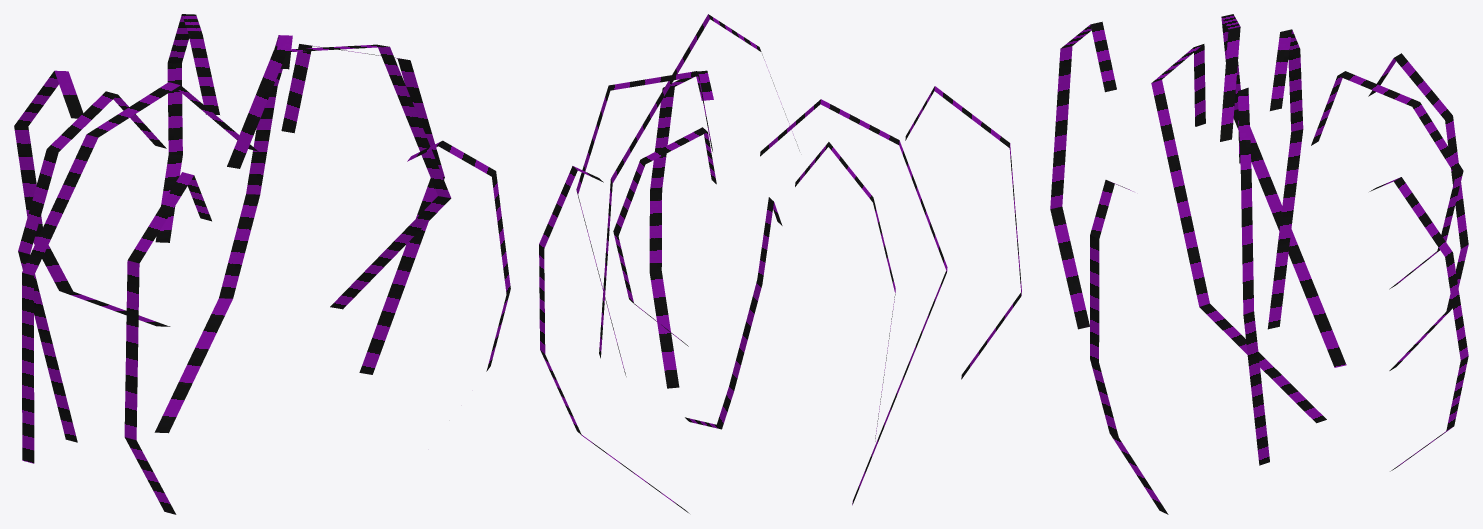
File: acc2.glb
3 renders of one model, left to right at view 1: azimuth 30°, elevation 25°; view 2: azimuth 150°, elevation 25°; view 3: azimuth 270°, elevation 25°, orthographic. The views are drawn at different scales.
Visible parts, largest first — view 1: neurohairs; view 2: neurohairs; view 3: neurohairs.
Part boxes in pixels (x1=…): neurohairs: x1=14, y1=14, x2=510, y2=514; neurohairs: x1=539, y1=14, x2=1021, y2=513; neurohairs: x1=1050, y1=14, x2=1468, y2=514.
Size of the model in its own units: 1.73 by 1.77 by 1.54.
Materials: 4 (4 with a texture image).
